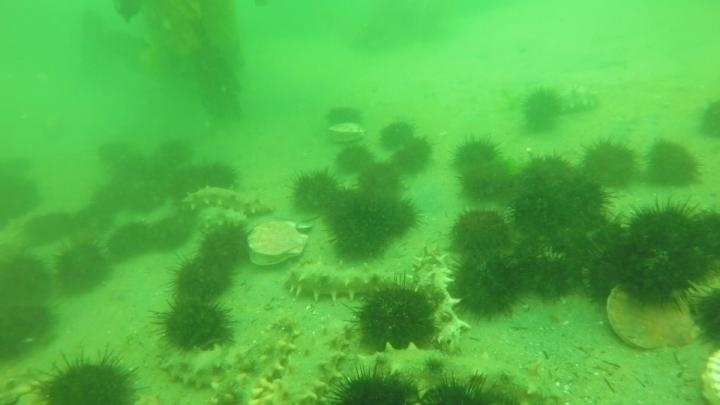echinus: (351, 276, 441, 357), (323, 191, 420, 265), (35, 347, 143, 405), (447, 251, 526, 321), (579, 231, 646, 306), (623, 198, 705, 258), (153, 296, 236, 354), (511, 233, 580, 301), (326, 366, 422, 404), (52, 239, 112, 297), (1, 299, 56, 362), (515, 149, 581, 201), (356, 192, 423, 242), (168, 158, 239, 204), (648, 251, 705, 306), (644, 138, 703, 191), (580, 137, 639, 190), (168, 254, 233, 302), (449, 206, 511, 256), (196, 220, 253, 272), (418, 371, 502, 404), (685, 272, 720, 351), (457, 159, 515, 205), (2, 252, 53, 304), (288, 167, 342, 216), (682, 206, 720, 269), (105, 220, 159, 264), (513, 194, 568, 236), (1, 170, 42, 226), (520, 86, 565, 135), (143, 212, 194, 255), (24, 210, 75, 248), (148, 136, 196, 176), (560, 177, 605, 219), (356, 160, 404, 199), (89, 180, 135, 220), (452, 135, 503, 171), (323, 184, 371, 222), (392, 136, 434, 177), (333, 142, 374, 177), (377, 119, 416, 153), (113, 150, 151, 183), (695, 97, 720, 143), (324, 103, 364, 130), (126, 183, 162, 210), (96, 142, 125, 167)
holothurian: (355, 342, 573, 405), (270, 316, 353, 404), (412, 245, 471, 354), (229, 318, 303, 402), (154, 340, 257, 391), (281, 262, 397, 305), (182, 184, 275, 222), (191, 206, 252, 236), (558, 80, 607, 113)
scallop: (603, 284, 701, 354), (244, 217, 309, 270), (697, 343, 720, 405), (327, 120, 366, 145)
